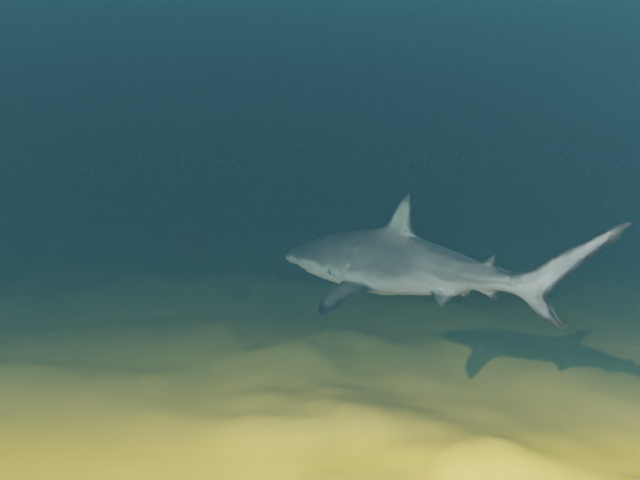Carribean Shark.001: (285, 193, 631, 328)
